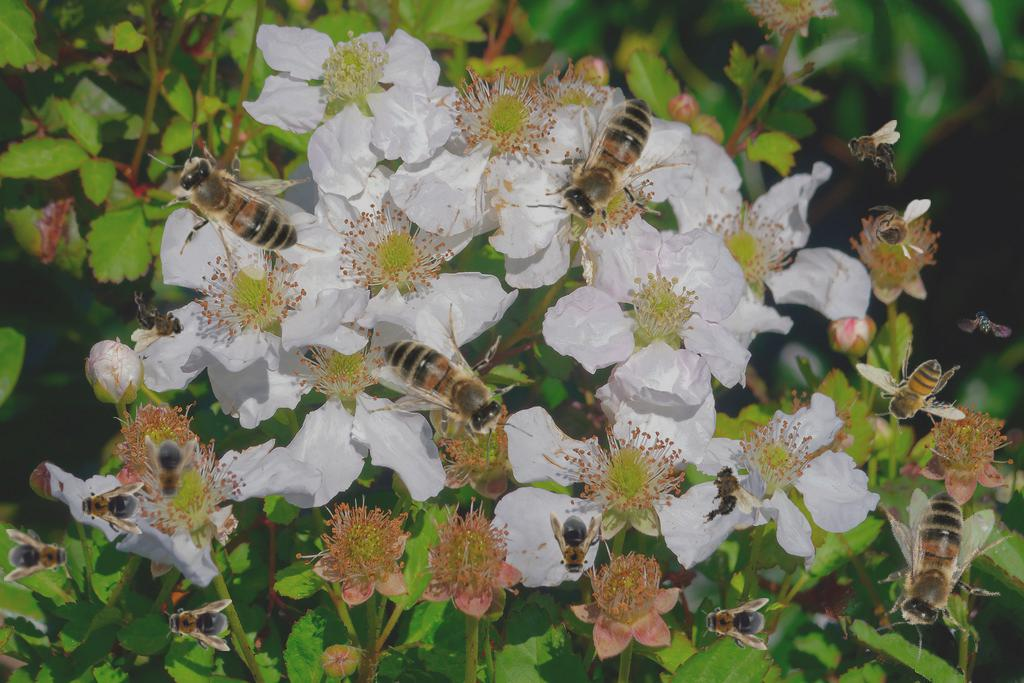Bee: (827, 461, 1024, 675), (522, 84, 695, 252), (371, 302, 533, 469), (148, 122, 310, 289), (855, 340, 966, 434), (689, 458, 764, 528), (861, 199, 931, 260), (4, 529, 72, 581), (701, 598, 769, 650), (145, 435, 197, 503), (550, 511, 602, 579), (164, 599, 232, 651), (76, 482, 144, 534), (847, 120, 900, 182), (131, 291, 184, 353)
